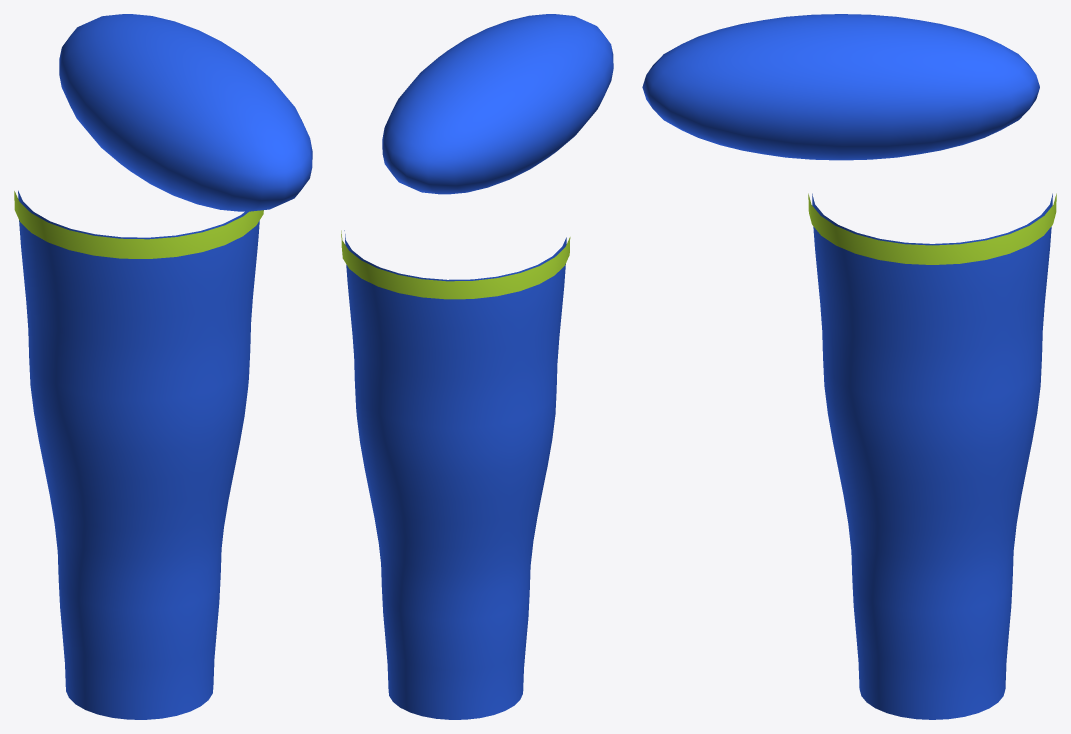
Rendered from socks_compression_male.glb.
3 renders of one model, left to right at view 1: azimuth 30°, elevation 25°; view 2: azimuth 150°, elevation 25°; view 3: azimuth 270°, elevation 25°, orthographic. The views are drawn at different scales.
Parts seen in each view (by area): view 1: sock, sock_foot, sock_band; view 2: sock, sock_foot, sock_band; view 3: sock, sock_foot, sock_band.
Boxes of the visible parts, left/top/right/bottom form: sock: left=18, top=190, right=259, bottom=719; sock_foot: left=59, top=14, right=312, bottom=211; sock_band: left=14, top=191, right=263, bottom=258; sock: left=344, top=230, right=566, bottom=719; sock_foot: left=382, top=14, right=613, bottom=194; sock_band: left=341, top=230, right=570, bottom=299; sock: left=812, top=193, right=1052, bottom=719; sock_foot: left=642, top=14, right=1039, bottom=160; sock_band: left=808, top=193, right=1056, bottom=264.
Size of the model in its own units: 0.136 by 0.402 by 0.227.
